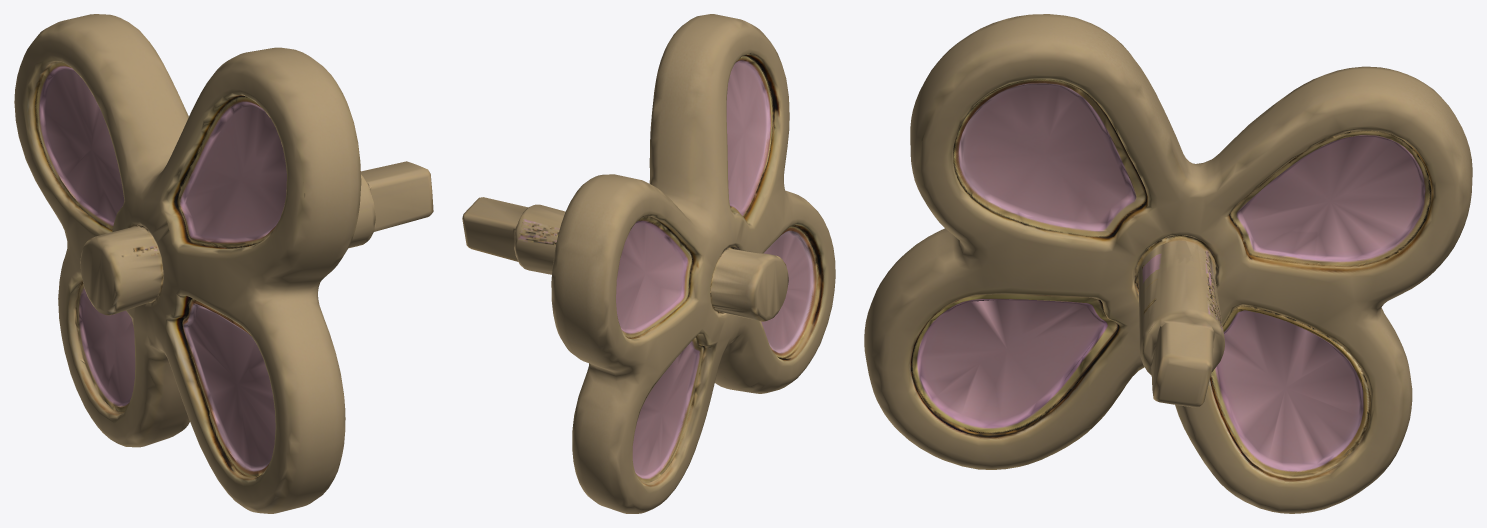
3 views of the same model, side by side, from view 1: azimuth 30°, elevation 25°; view 2: azimuth 150°, elevation 25°; view 3: azimuth 270°, elevation 25° (orthographic). The views are drawn at different scales.
Parts seen in each view (by area): view 1: repaired; view 2: repaired; view 3: repaired.
Boxes of the visible parts, x1=… form: repaired: x1=14, y1=14, x2=433, y2=513; repaired: x1=462, y1=14, x2=835, y2=513; repaired: x1=864, y1=14, x2=1472, y2=513.
Size of the model in its own units: 0.7009 by 0.9109 by 0.9995.
Materials: 1 (1 with a texture image).
